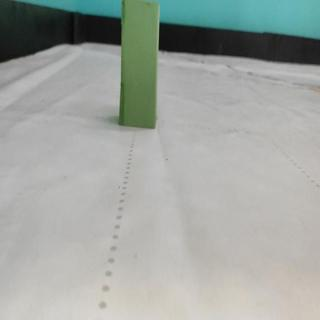greenbox: (121, 0, 159, 129)
